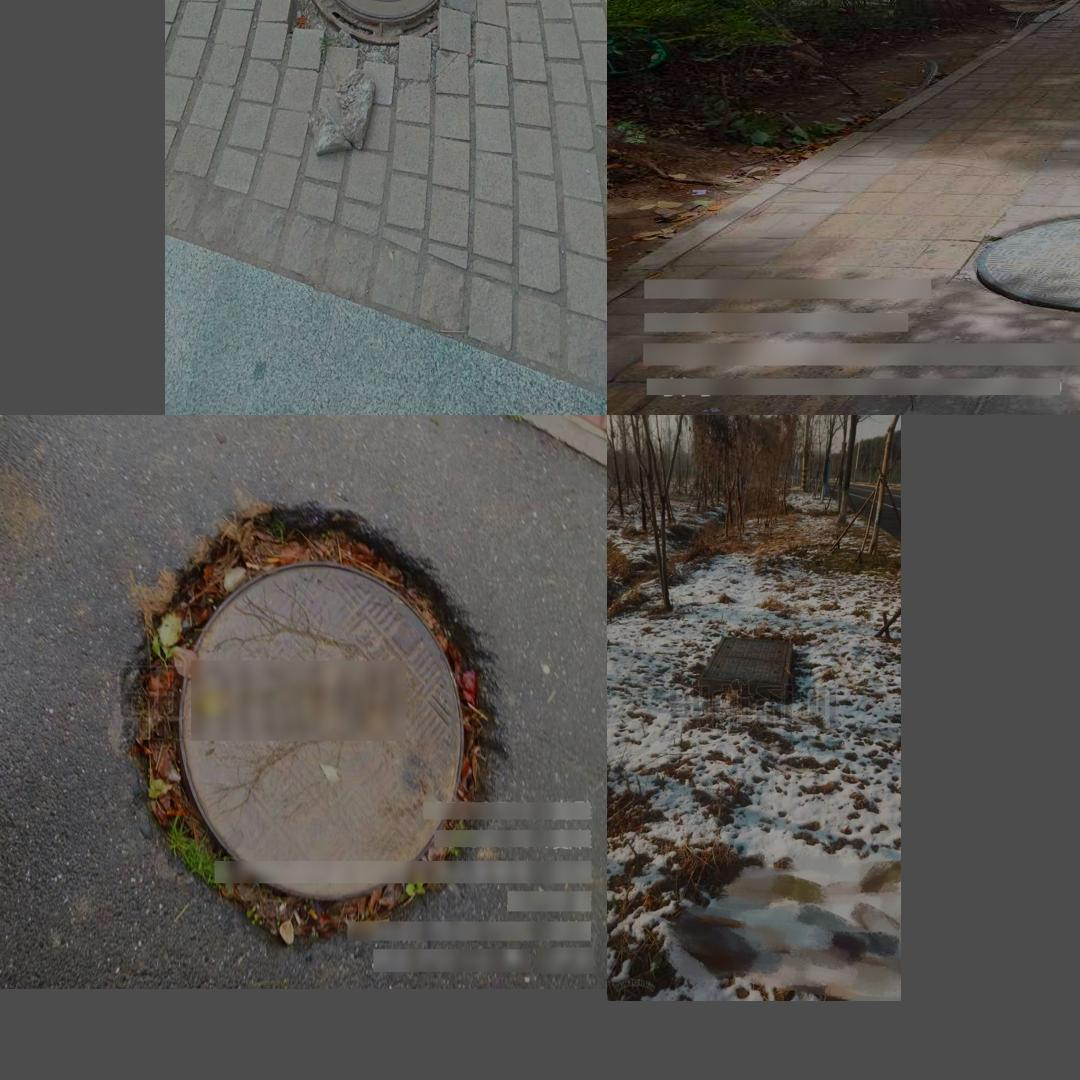circle: (120, 508, 509, 939), (270, 0, 500, 84), (966, 210, 1080, 317), (691, 636, 797, 707)
